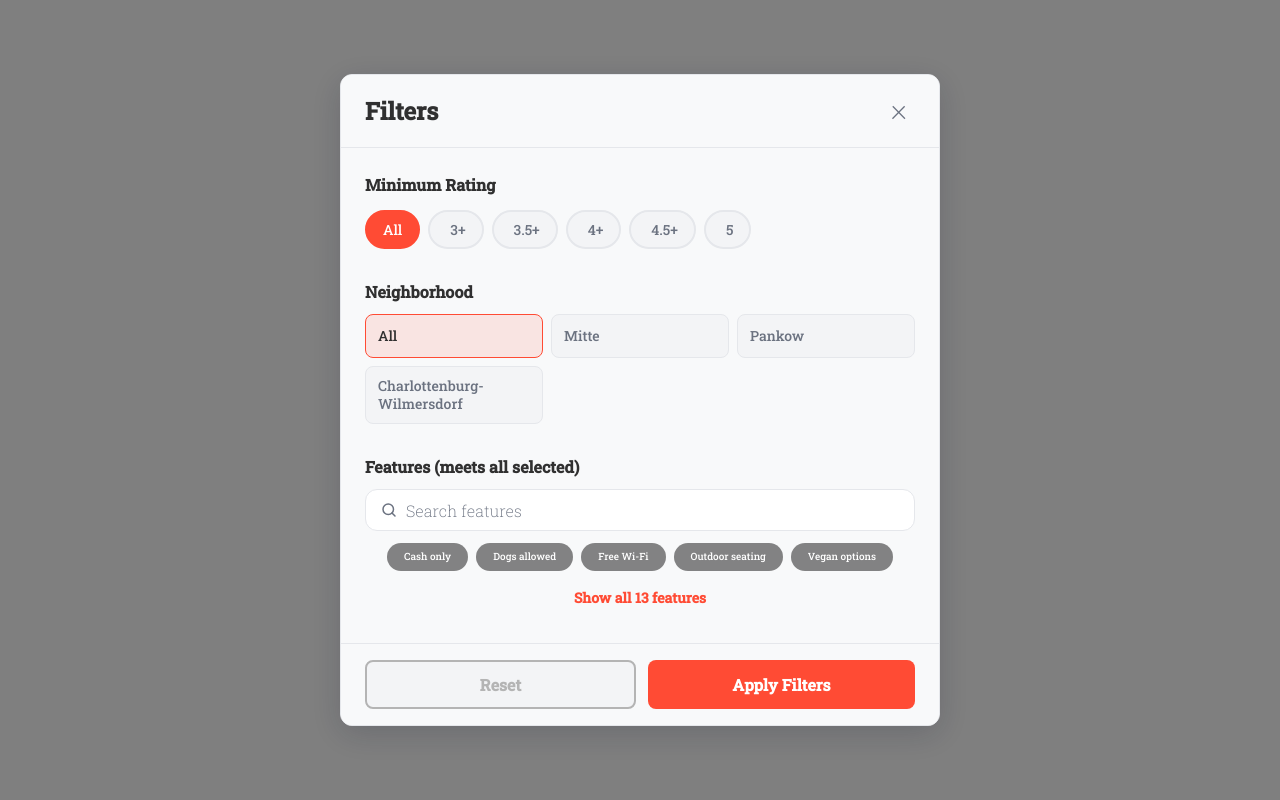
Test case: FilterPanel › Live result count › counts again after a failed request once the Filters change
The width and height of the screenshot is (1280, 800).
Click the button "Mitte" at (640, 336), box [551,314,729,358]
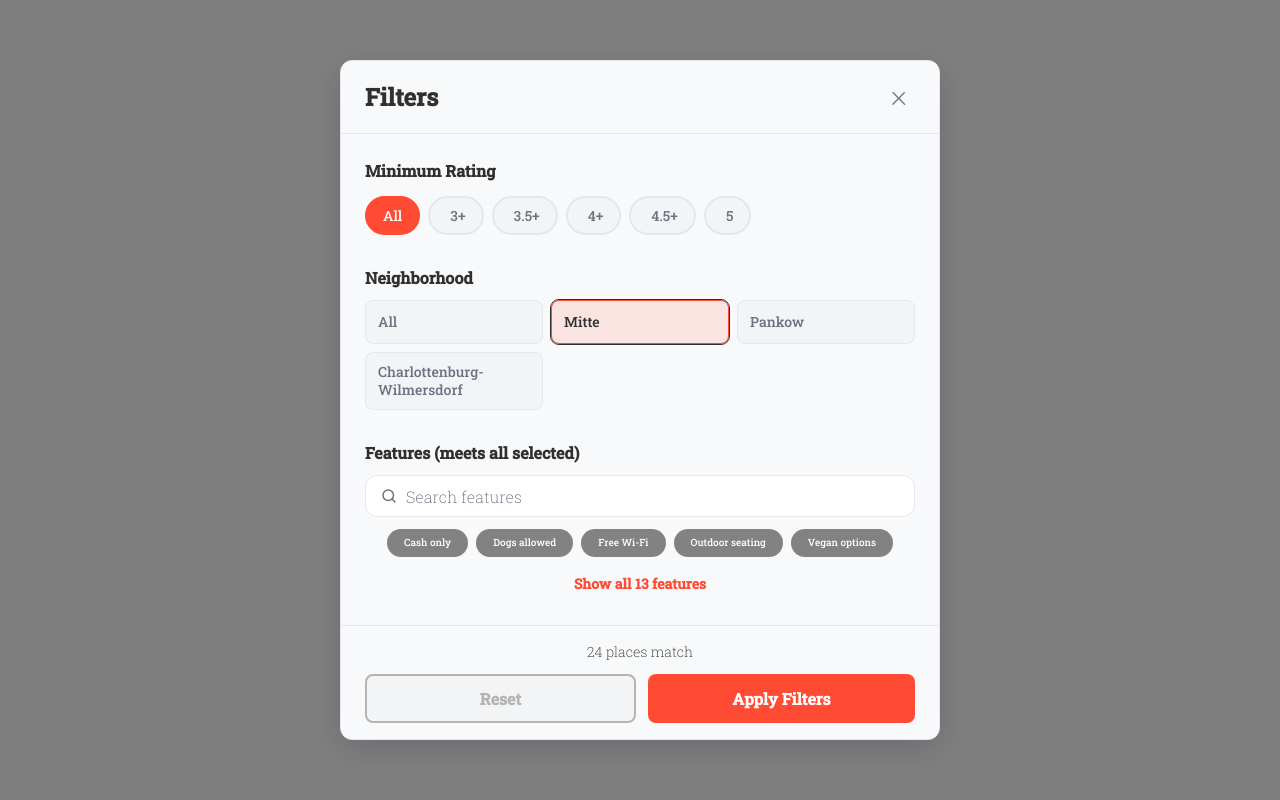
Expected: the text "24 places match" is shown, [587,642,693,661]
